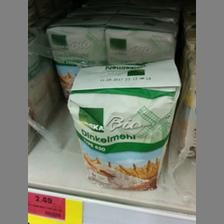Mehl: (67, 60, 182, 192)
